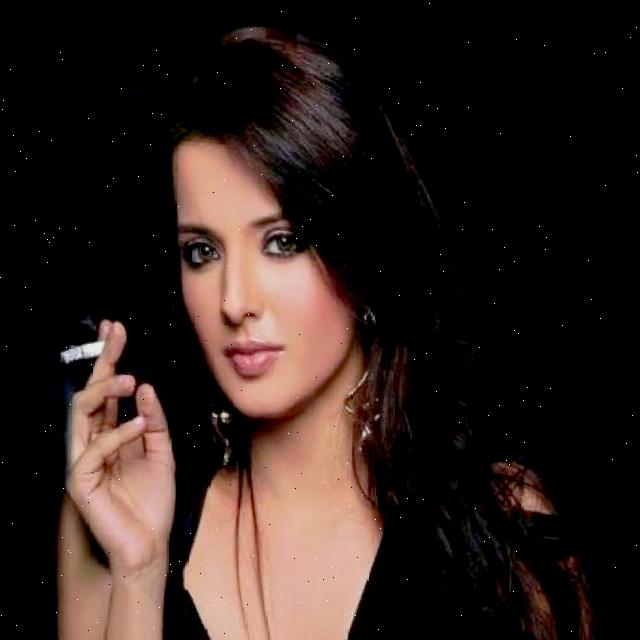cigarette: (62, 336, 106, 365)
